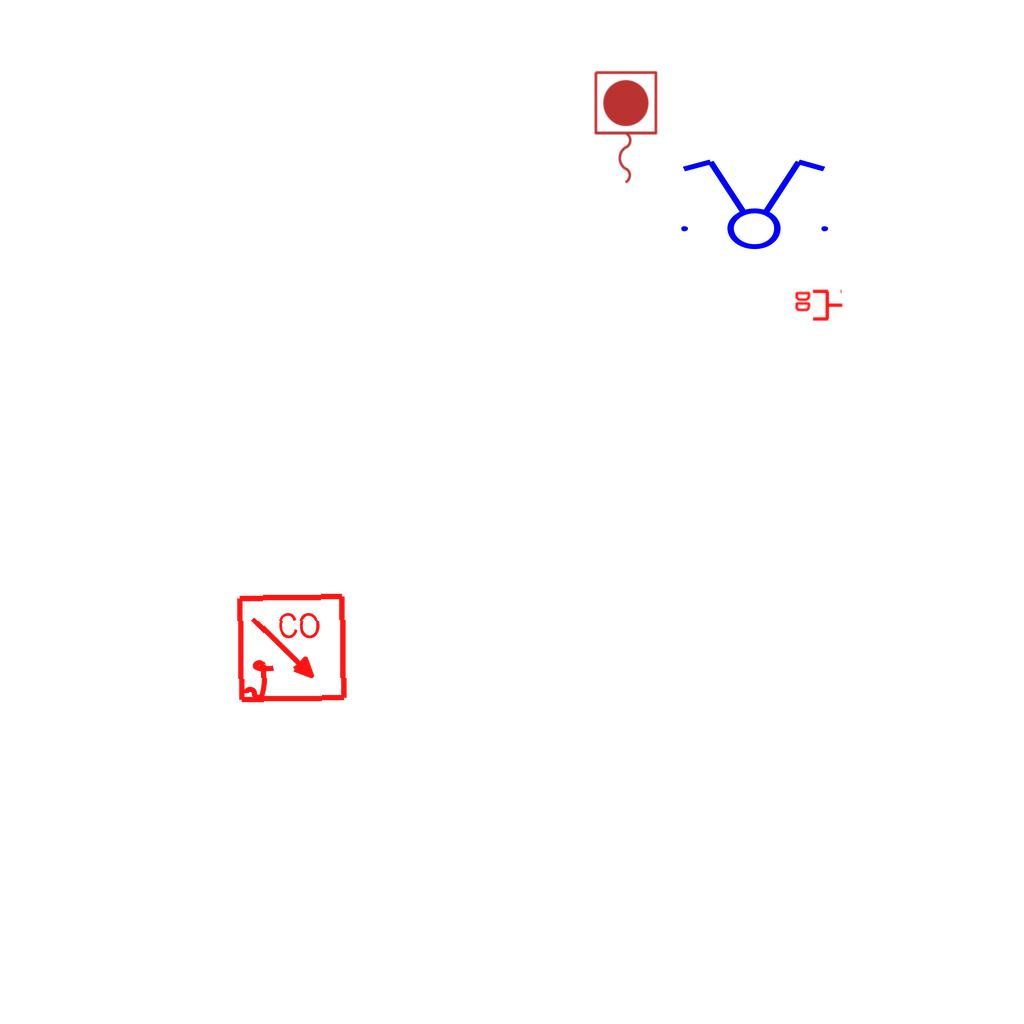Datenanschluss_zweifach: (793, 289, 844, 323)
ROA_Rauchmelder_optisch_mit_Signalgeber_(Sockelsirene): (235, 592, 350, 707)
Serienschalter: (669, 155, 837, 251)
Zugtaster: (589, 67, 661, 189)
